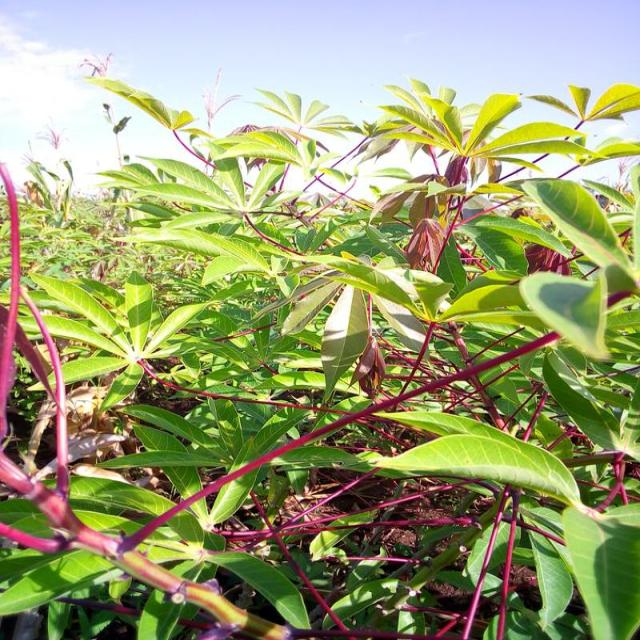cassava leaf: (2, 63, 640, 637), (361, 410, 583, 511)
